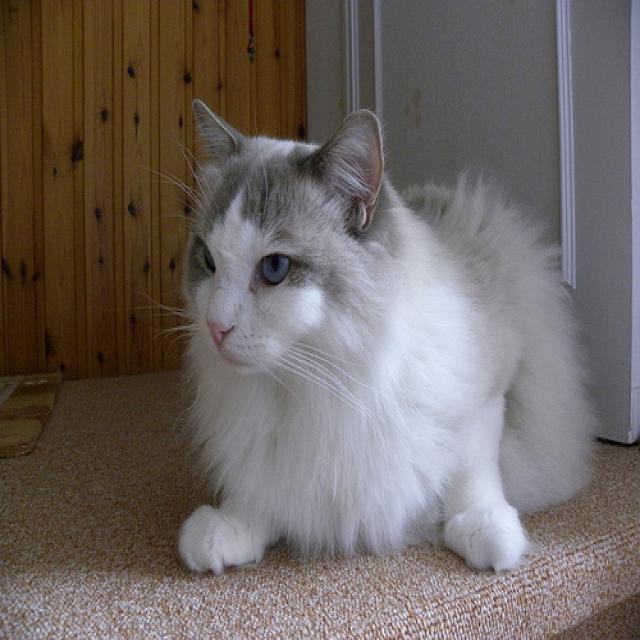Ragdoll: (181, 92, 393, 385)
